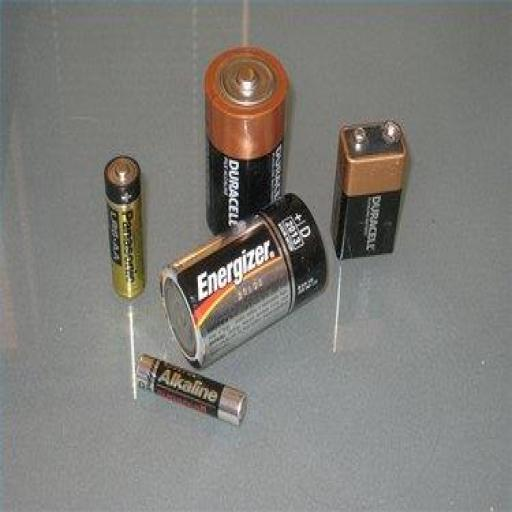battery: (157, 192, 330, 372), (203, 46, 290, 238), (329, 120, 410, 262), (132, 352, 249, 429), (105, 156, 147, 300)
